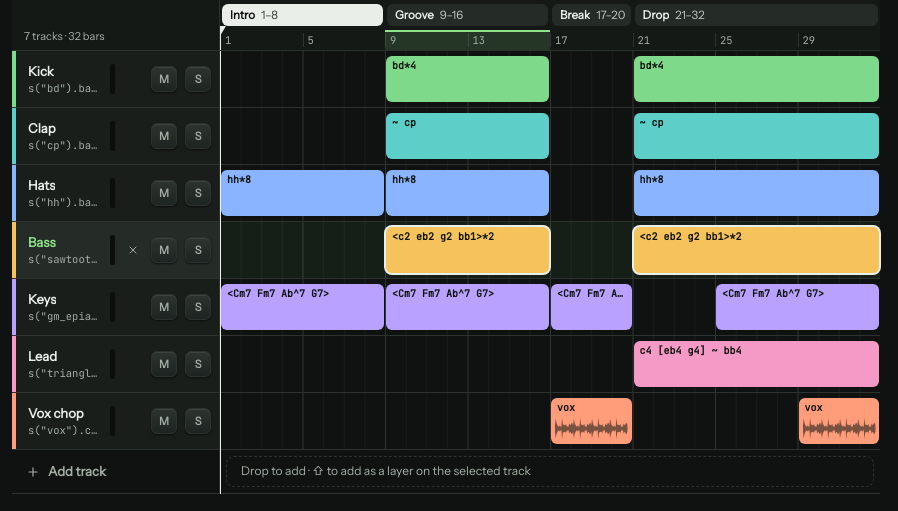
Test: Timeline › should mute a track and mark its clips as muted
This screenshot has width=898, height=511.
Click the button named "Mute Hats" at (164, 193), box x1=151 y1=180 x2=177 y2=206
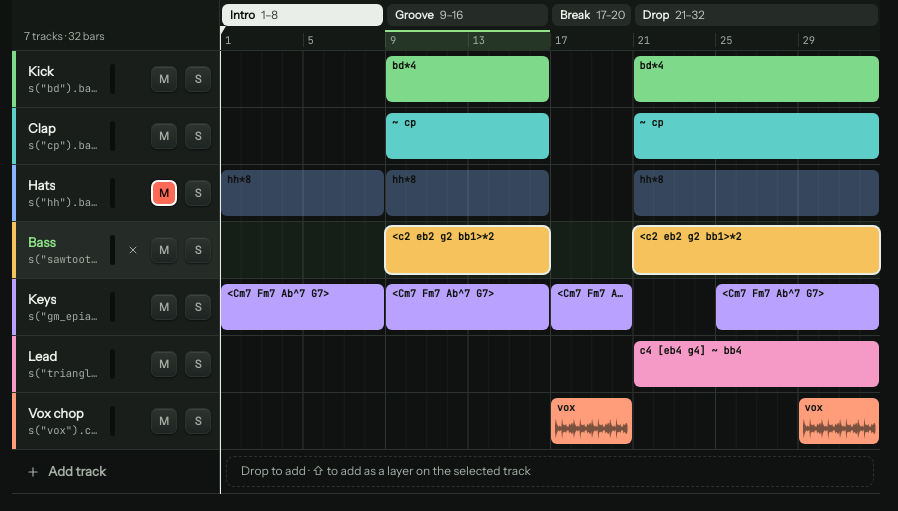
Expected: the button with aria-label "Kick, bars 9 to 16, bd*4" is shown, x1=386 y1=56 x2=549 y2=102
Now the button with aria-label "Hats, bars 1 to 8, hh*8, muted" is shown, box x1=221 y1=170 x2=384 y2=216
